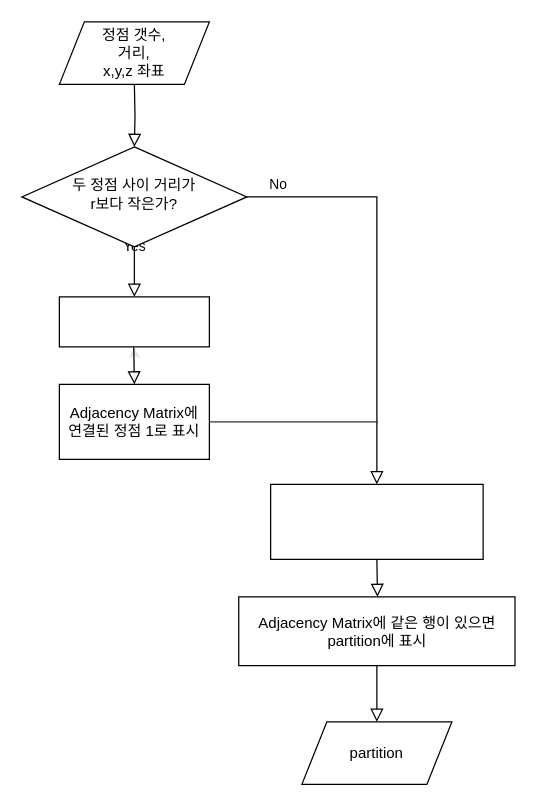
The diagram is 538 pixels wide and 806 high, and some of its shapes have lost their labels. Each missing label, with the centre of its shape:
"멀티홉으로 연결시키고 Adjacency Matrix에 1로 표시" goes at pixel 376 521.
"직접 연결됨" goes at pixel 133 321.
